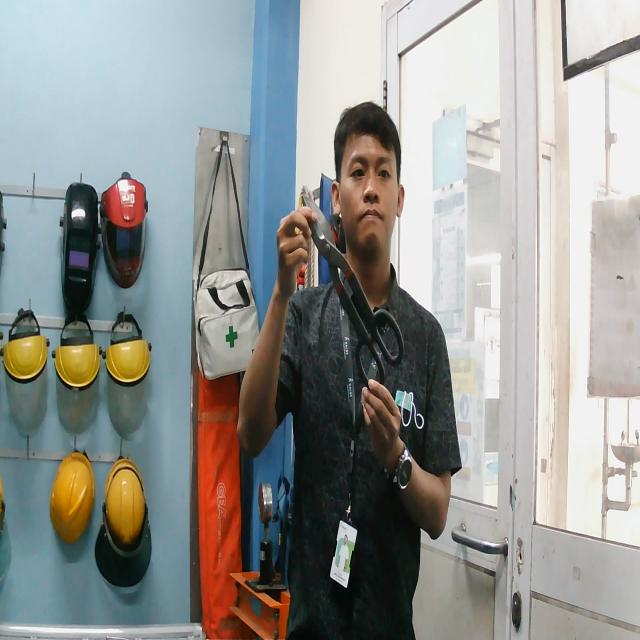gunting_plat: (283, 154, 413, 413)
